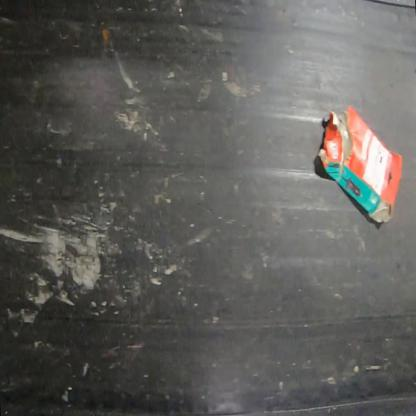cardboard: (317, 105, 404, 223)
